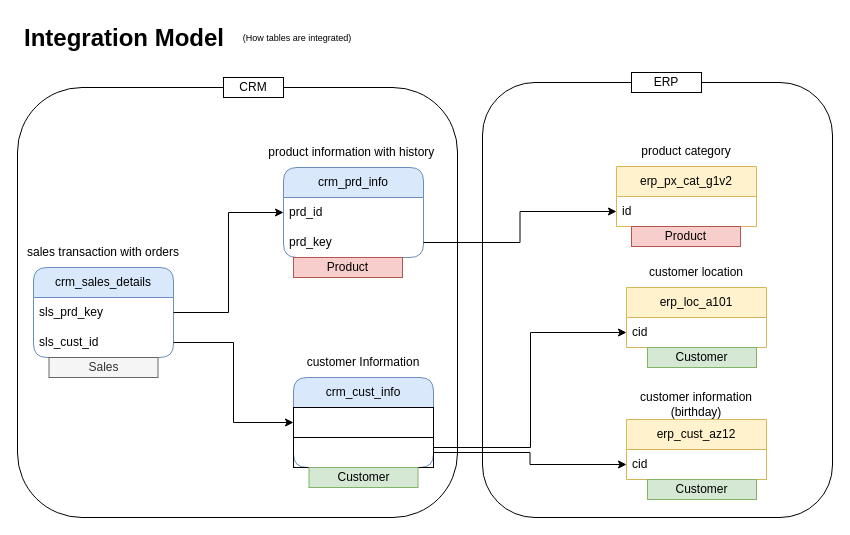
The diagram is 850 pixels wide and 535 high, and some of its shapes have lost their labels. Here are the shapes that lost their labels. From the top down, the centre of each, then its label:
(363,422): cst_id
(363,452): cst_key
